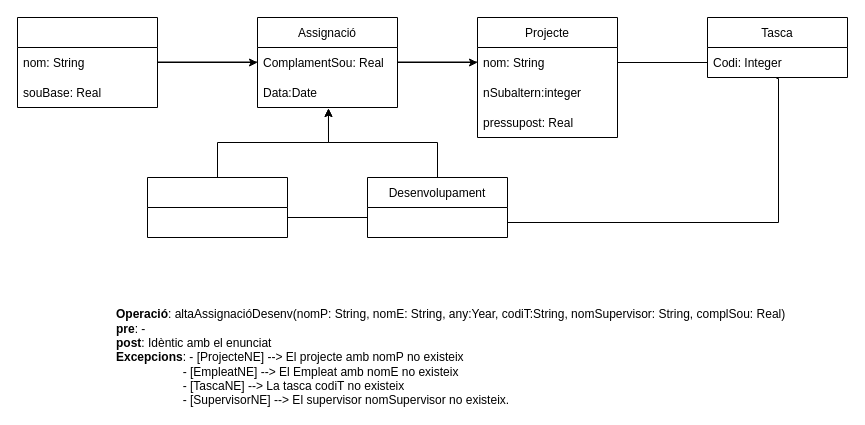
Some shapes in this 865 by 425 pixel diagram are drawn without their labels. The shapes that lost their labels are listed below. From the top down, each one's box as (x1, y1, x2, y2) in pixels, then its label:
(16, 16, 158, 108): Empleat
(146, 176, 288, 238): Direcció
